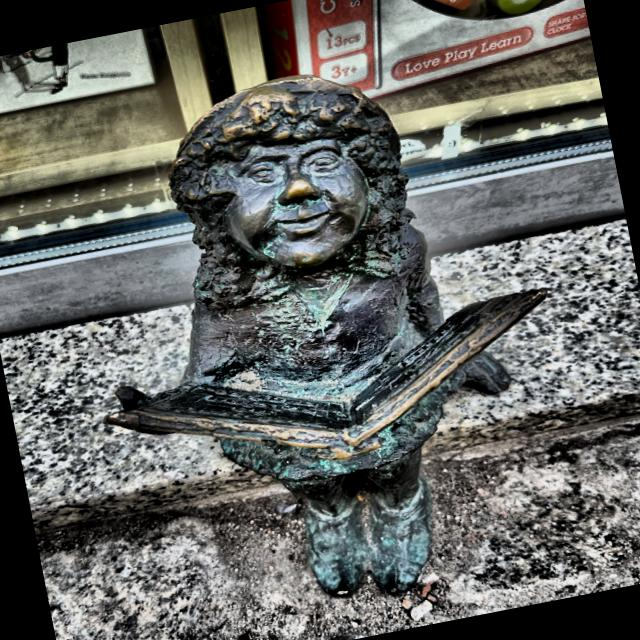Ksiegarka: (40, 26, 611, 640)
